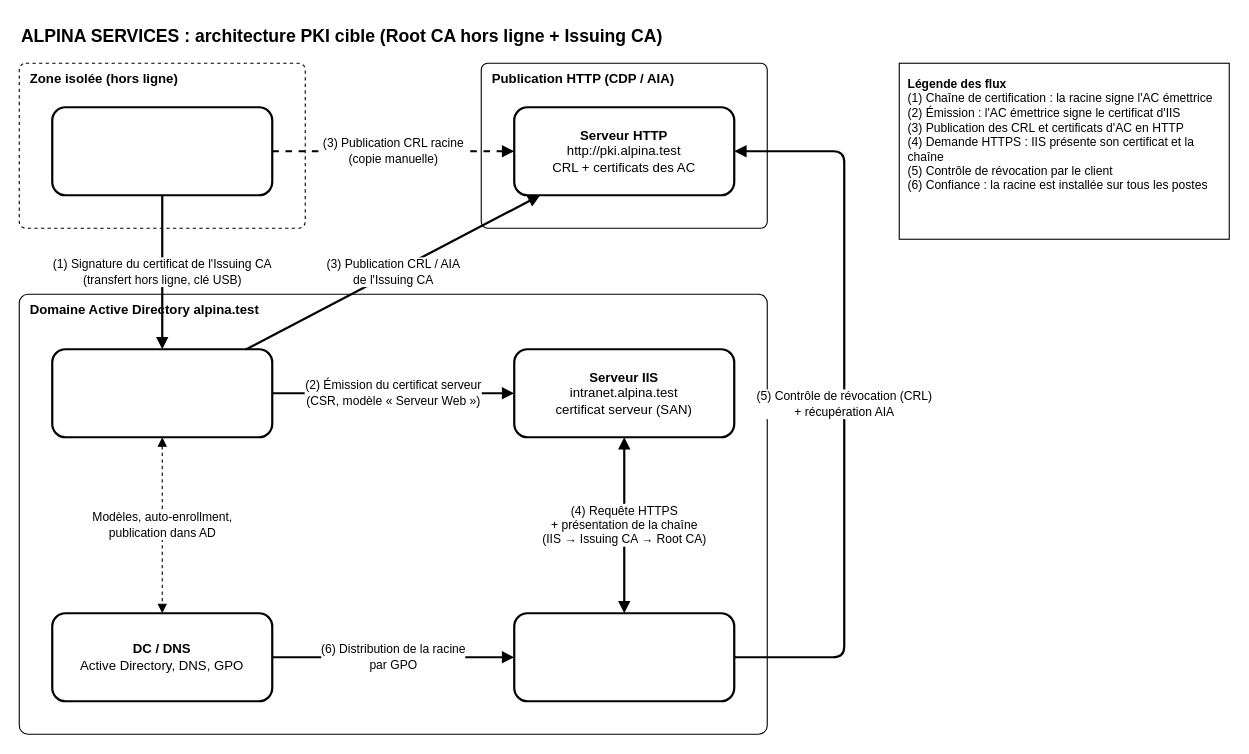
Image size: 1249x754. Some labels were removed from this diagram. The centre of each missing label's shape, as x and y in pixels:
Issuing CA ALPINA-ISSUING-CA Enterprise CA jointe au domaine: [162,393]
Poste client Windows 11 navigateur: [624,657]
Root CA ALPINA-ROOT-CA hors ligne, éteinte: [162,151]
